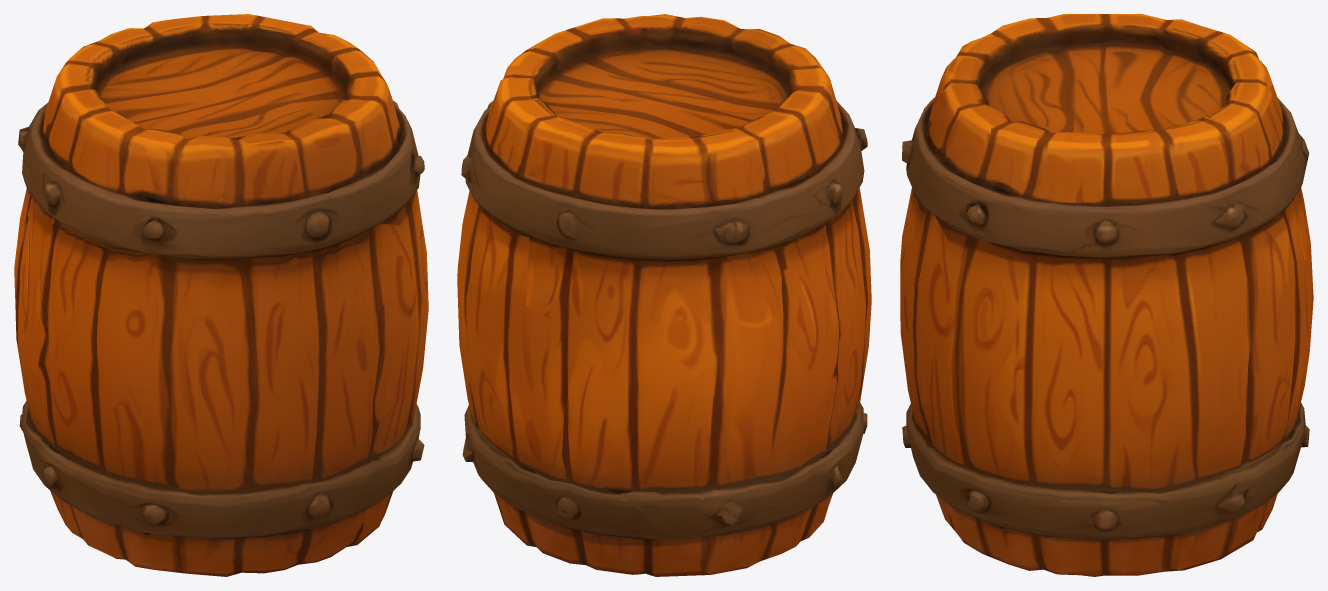
Rendered from Barrel.fbx.
3 views of the same model, side by side, from view 1: azimuth 30°, elevation 25°; view 2: azimuth 150°, elevation 25°; view 3: azimuth 270°, elevation 25° (orthographic).
Parts seen in each view (by area): view 1: Barrel; view 2: Barrel; view 3: Barrel.
Part boxes in pixels (x1,y1,x2,y2): Barrel: (14, 14, 428, 576); Barrel: (457, 14, 871, 576); Barrel: (900, 14, 1313, 576).
Size of the model in its own units: 164 by 189 by 164.
